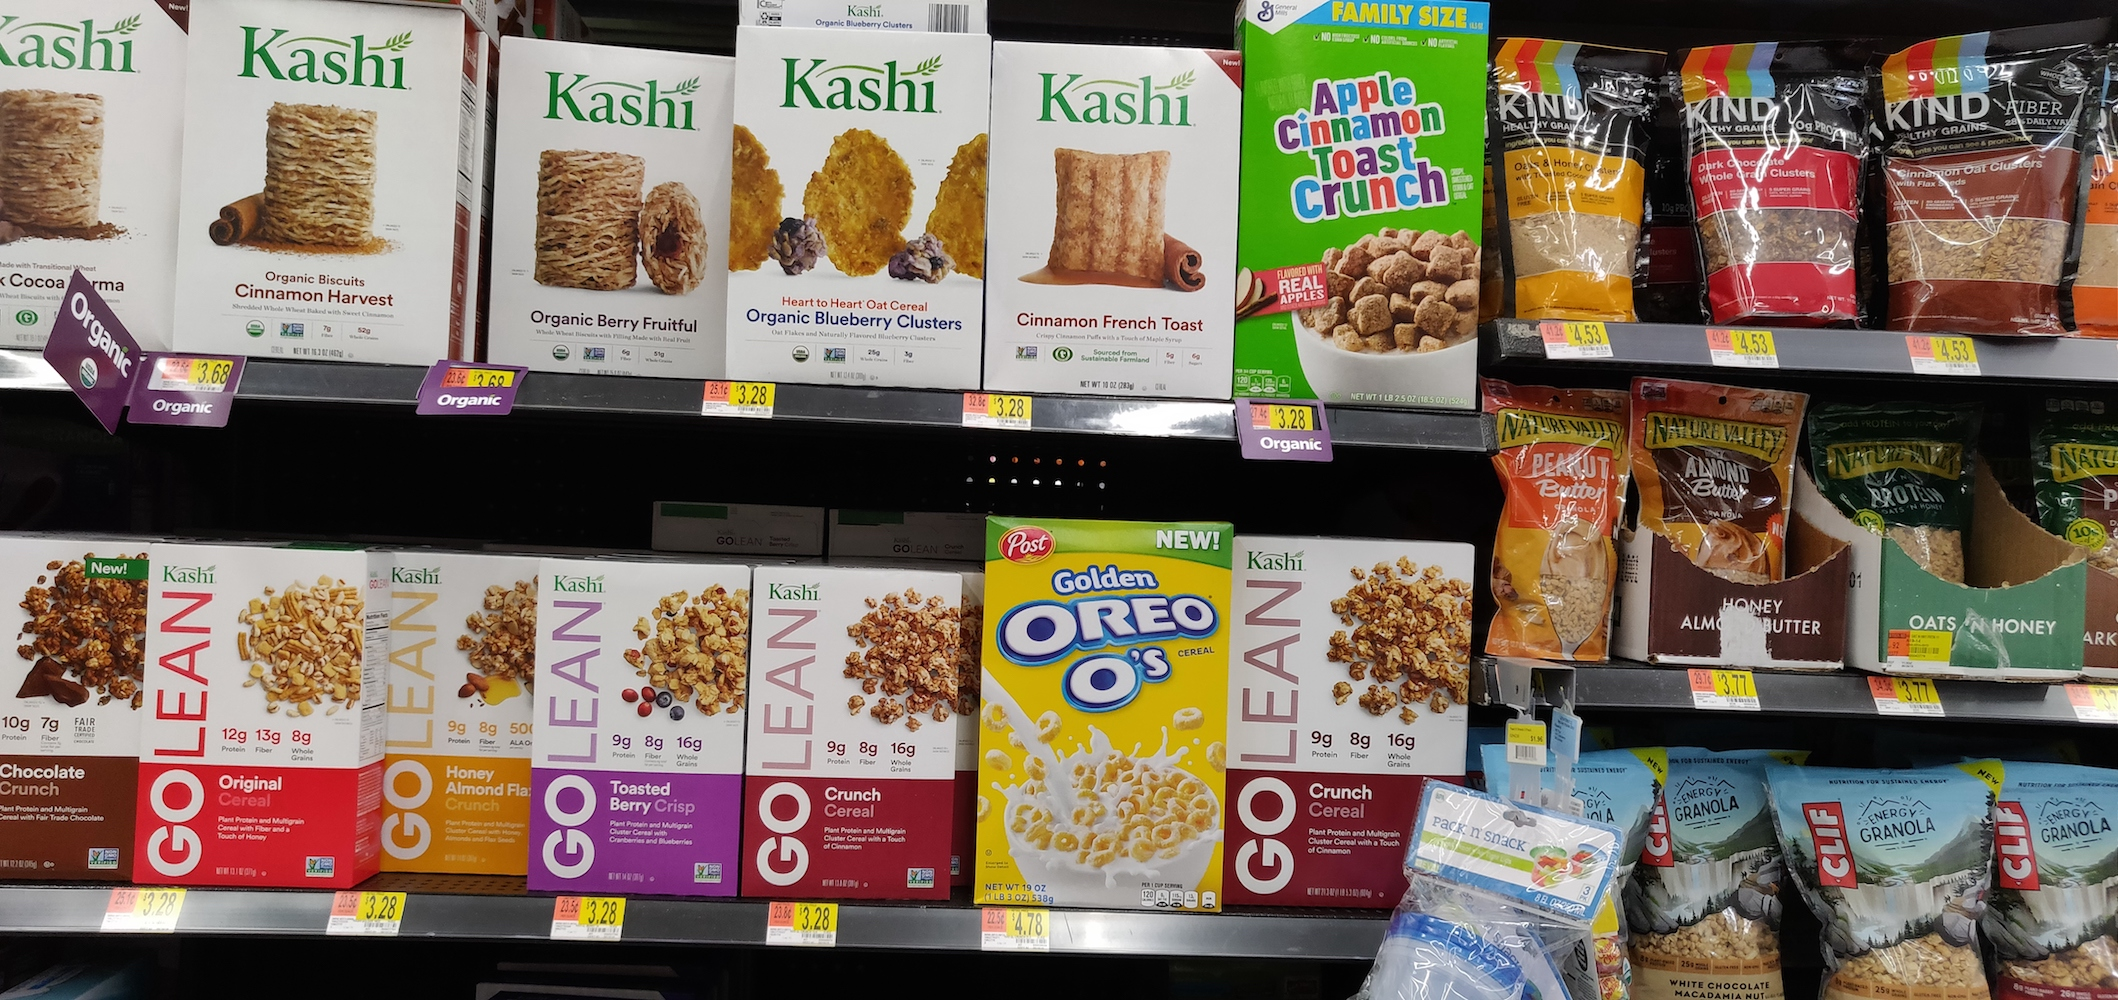Oreo Golden-568301011: (983, 519, 1235, 920)
